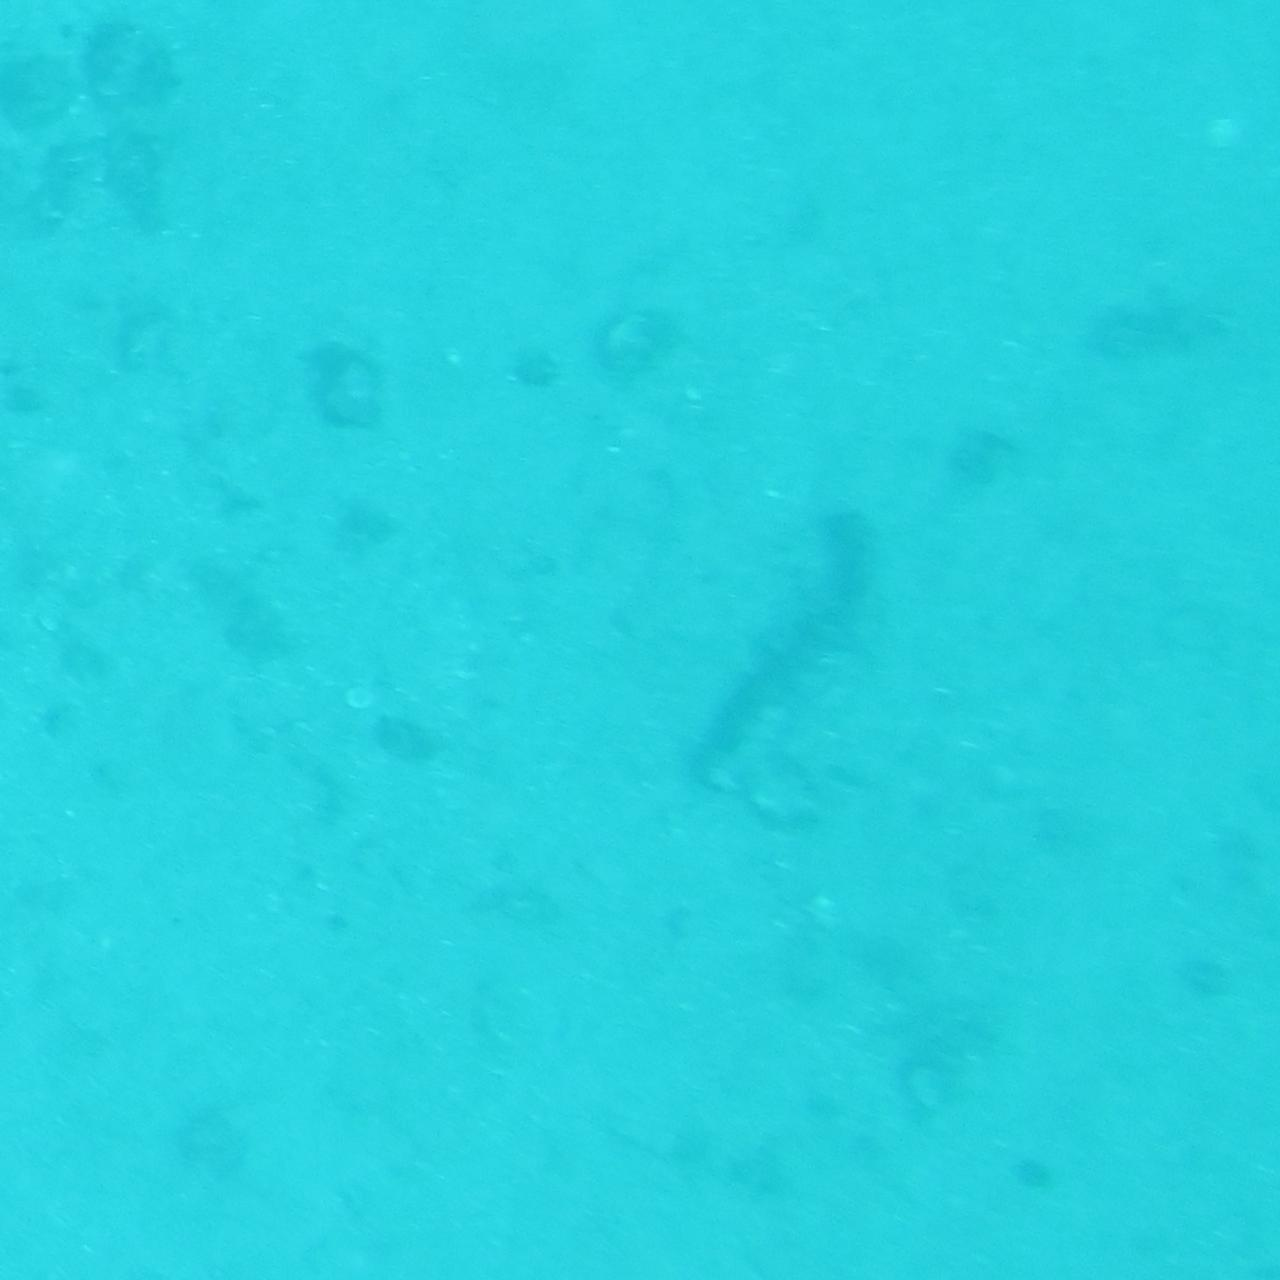Holothuria tubulosa: (670, 481, 906, 799)
